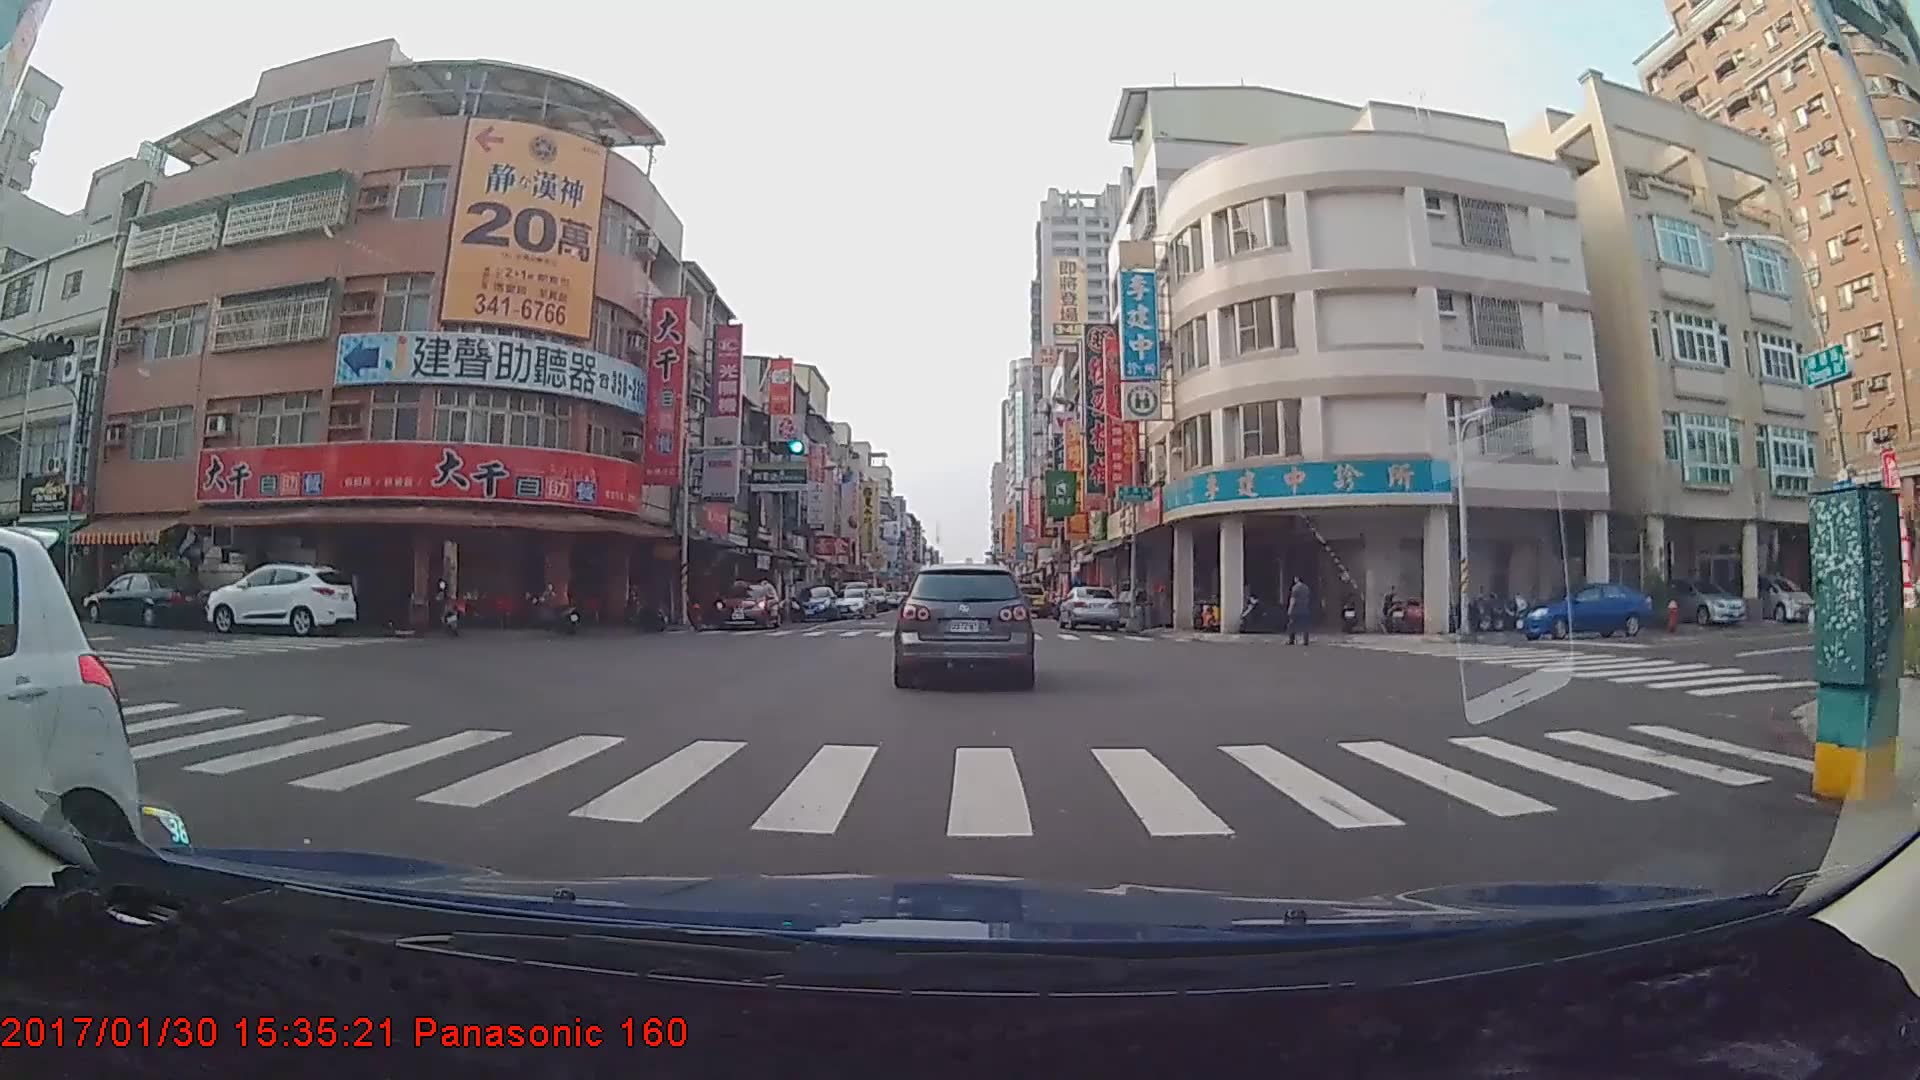pedestrian: (1287, 576, 1315, 650)
vehicle: (0, 514, 143, 941), (893, 560, 1035, 689), (204, 562, 357, 636), (1517, 581, 1653, 640), (81, 569, 205, 632), (1640, 572, 1744, 627), (1723, 568, 1823, 625), (714, 577, 780, 629), (1054, 583, 1120, 629), (789, 583, 840, 621), (828, 588, 877, 618), (1011, 582, 1048, 616)
